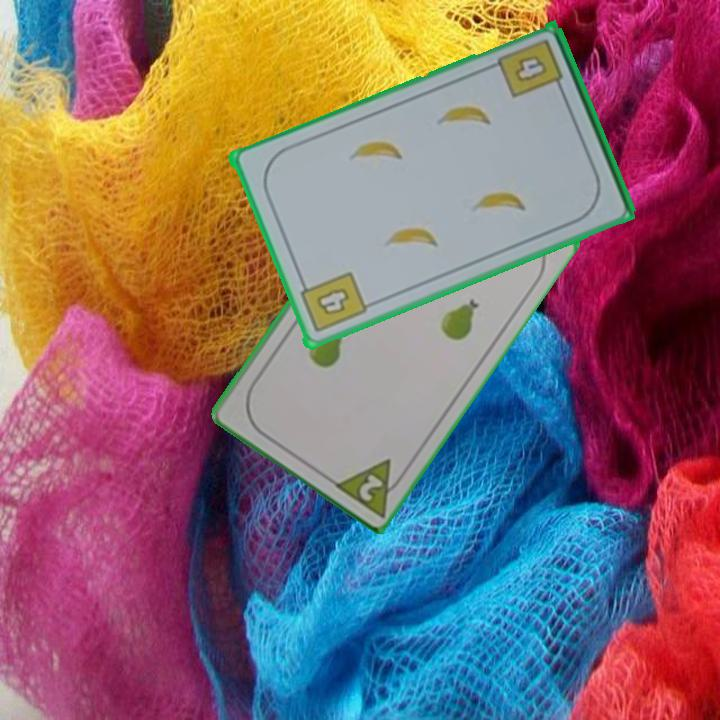2p: (328, 453, 410, 519)
4b: (295, 269, 369, 336), (494, 36, 568, 102)
